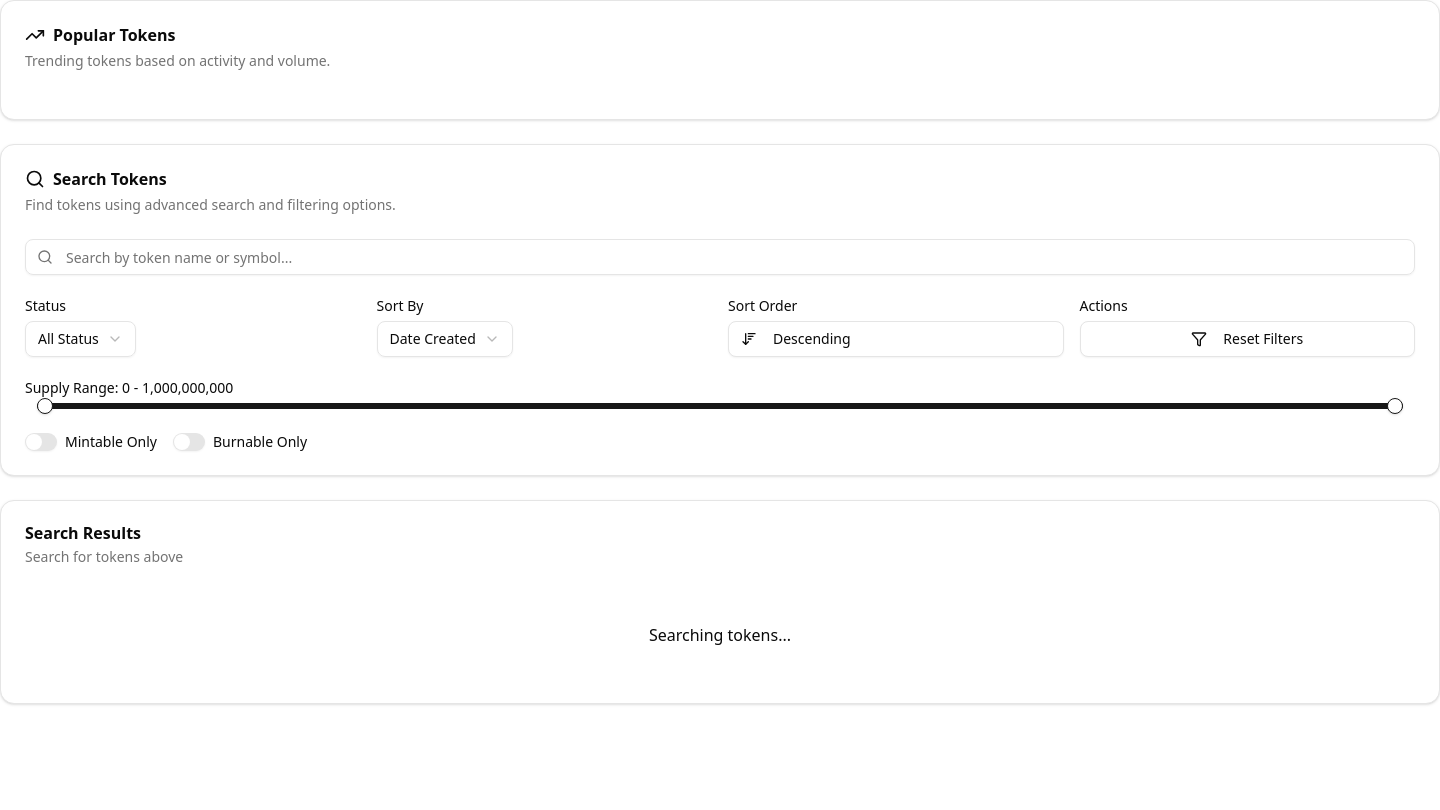
TokenSearch Component › should show no results message
In the field with placeholder "Search by token name or symbol...": {"x": 720, "y": 257} [25, 239, 1415, 275], type "NONEXISTENT"
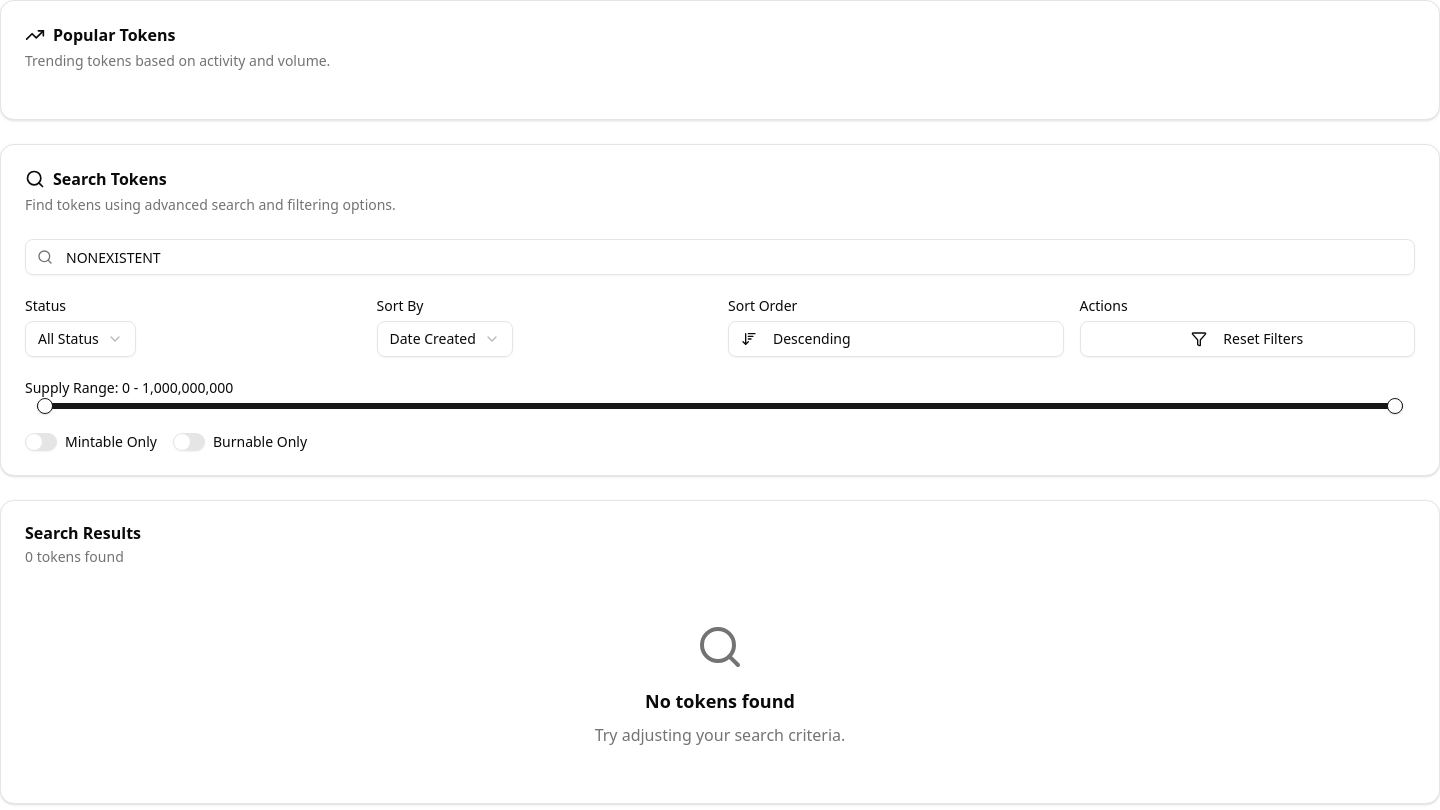
Expected: the heading "No tokens found" is shown, [645, 689, 795, 713]
Expected: the text "Try adjusting your search criteria." is shown, [595, 724, 845, 746]
